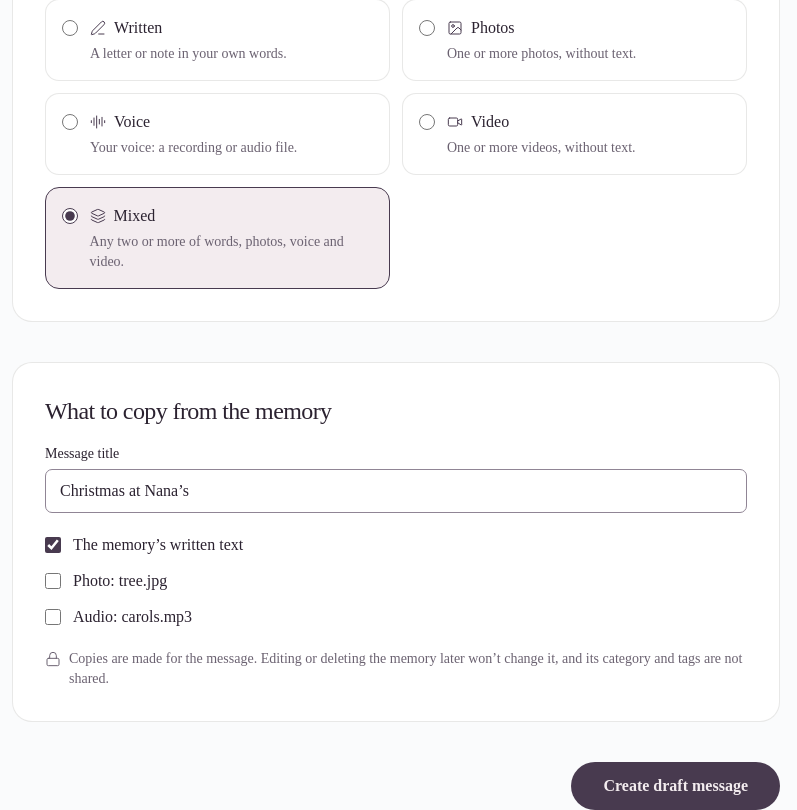
Scenario: Create a message from a memory › needs at least one person, like every message
(page scrolled)
Click the button "Create draft message".
click(676, 786)  # box [572,762,780,809]
(page scrolled)
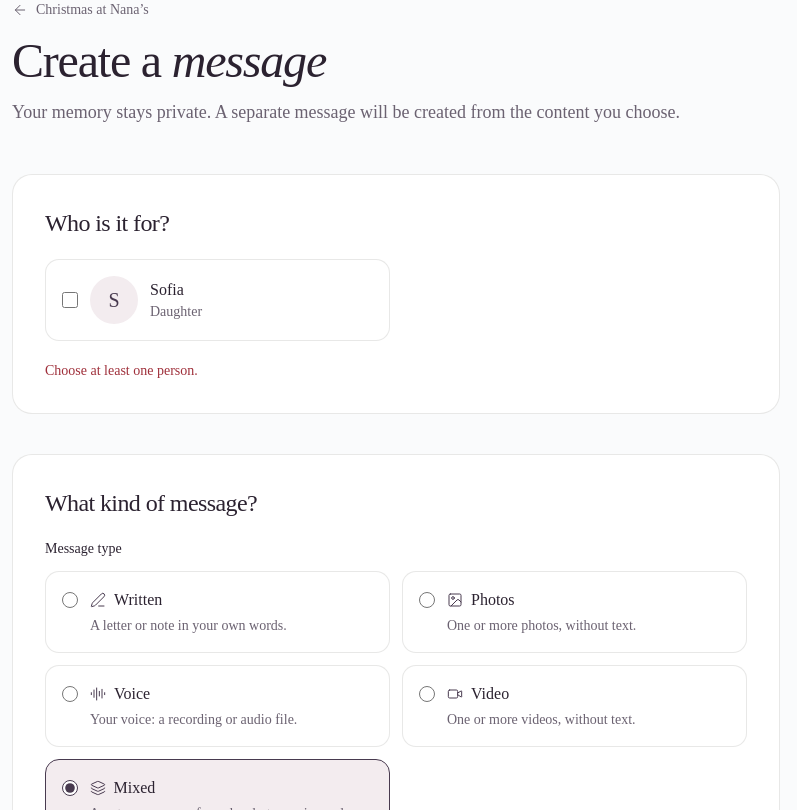
Check: the text "Choose at least one person." is shown, box [45,363,198,378]
